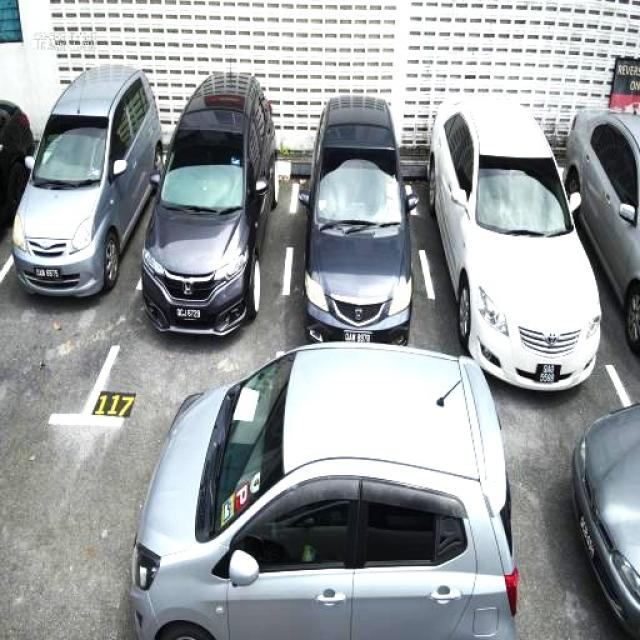Legalparking: (428, 99, 599, 390), (142, 72, 278, 335), (12, 65, 162, 296), (299, 94, 418, 344), (566, 110, 639, 352), (0, 100, 34, 226)
illegalparking: (130, 342, 518, 639), (574, 402, 639, 639)
